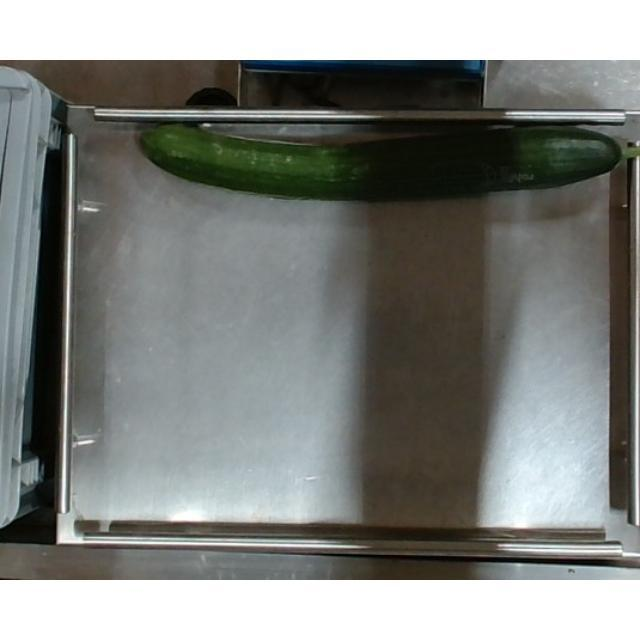cucumber: (130, 116, 636, 204)
